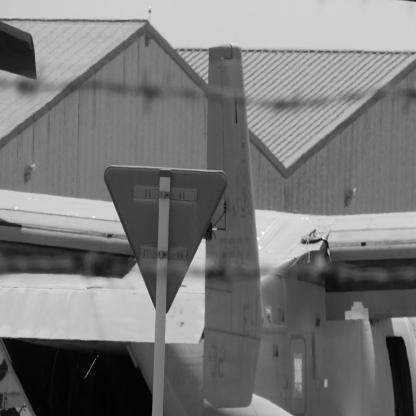V22: (1, 22, 416, 416)
